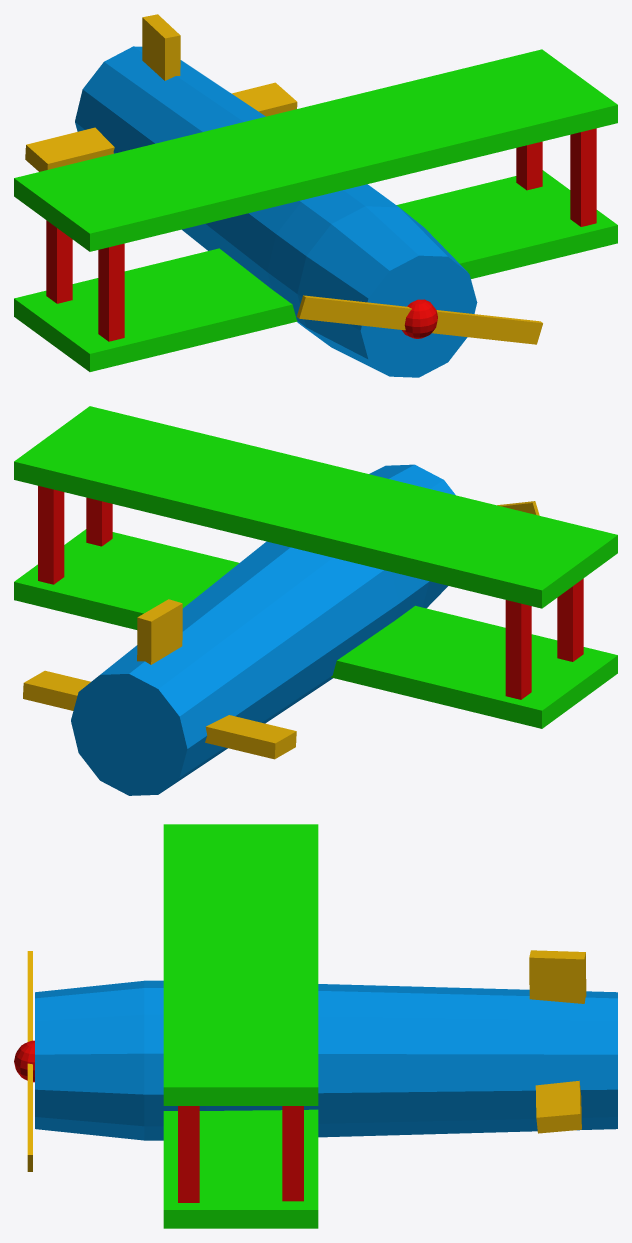
The model's file is JouetAvion.fbx.
3 views of the same model, one above another, from view 1: azimuth 30°, elevation 25°; view 2: azimuth 150°, elevation 25°; view 3: azimuth 270°, elevation 25° (orthographic).
Parts seen in each view (by area): view 1: Avion; view 2: Avion; view 3: Avion.
Part boxes in pixels (<box>): Avion: <box>14,14,617,377</box>; Avion: <box>14,406,617,795</box>; Avion: <box>14,824,617,1228</box>.
Bounding box in the file's own units: 23.05 × 7.28 × 22.39.
